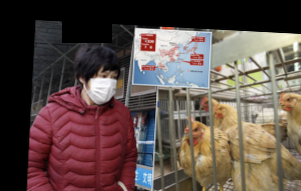with_mask: (85, 68, 120, 106)
